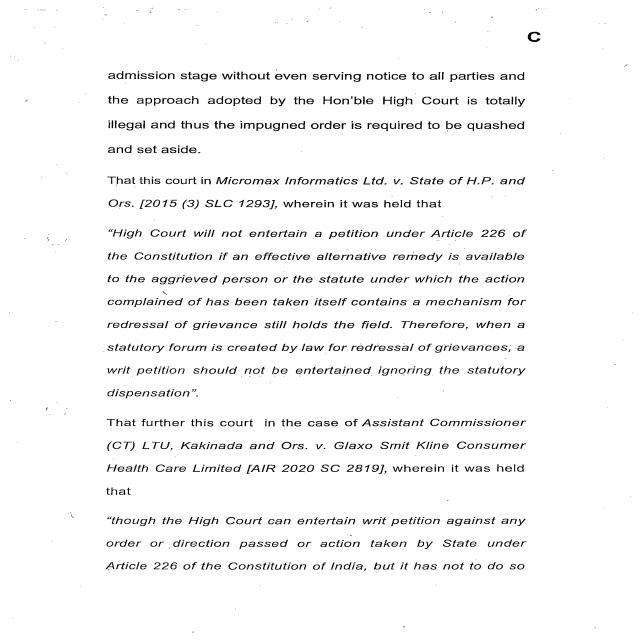page-number: (383, 1, 640, 72)
